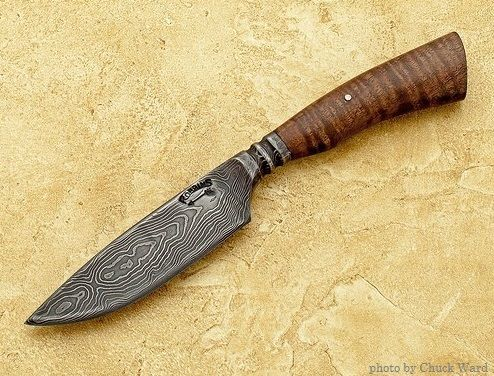knife: (20, 28, 472, 331)
